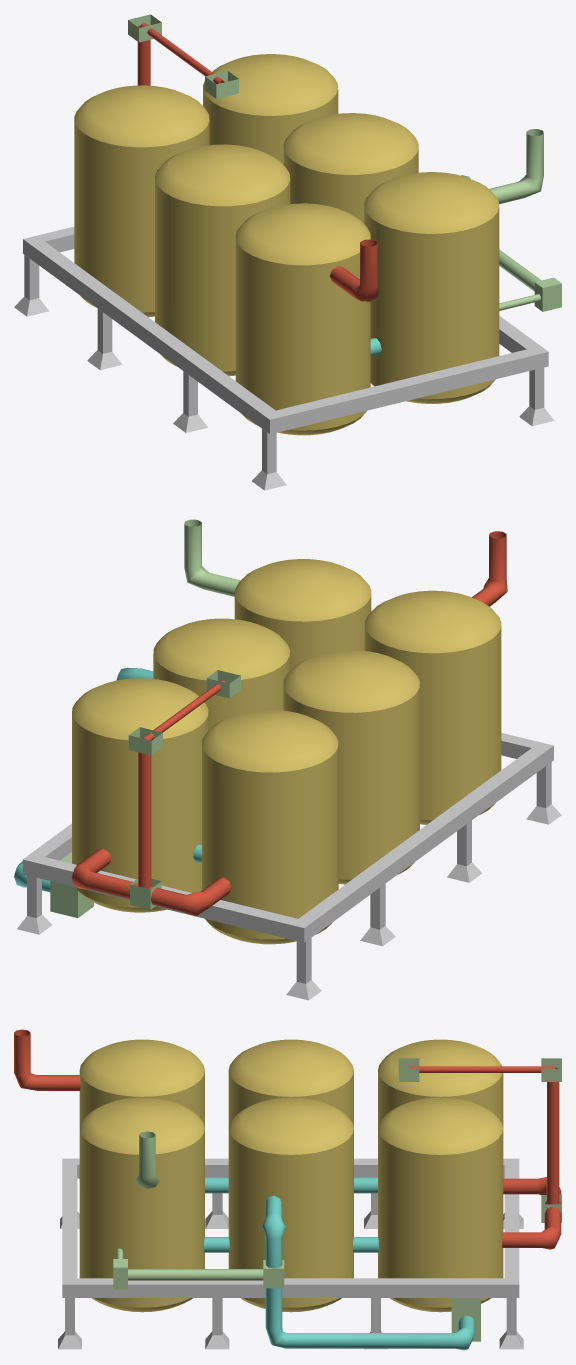
The model's file is Machine.fbx.
3 views of the same model, one above another, from view 1: azimuth 30°, elevation 25°; view 2: azimuth 150°, elevation 25°; view 3: azimuth 270°, elevation 25° (orthographic). The views are drawn at different scales.
Visible parts, largest first — view 1: Machine; view 2: Machine; view 3: Machine.
Boxes of the visible parts, <box> form: Machine: <box>14,14,561,490</box>; Machine: <box>14,519,561,1000</box>; Machine: <box>14,1029,561,1350</box>.
Bounding box in the file's own units: 5.1 × 3.63 × 7.93.
